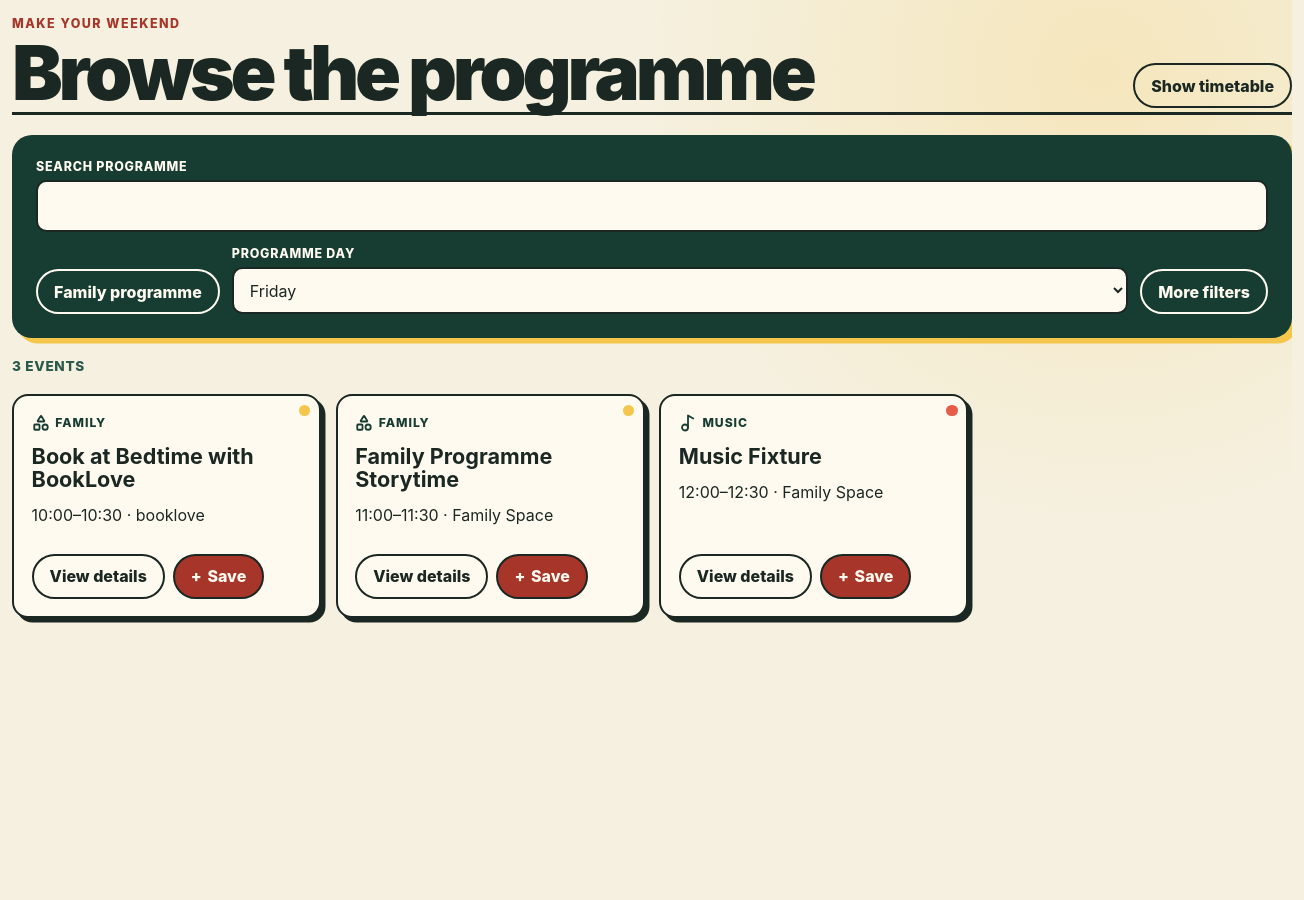
Test case: BrowseView › toggles the Family programme shortcut without replacing the other Browse filters
Expected: the element "Book at Bedtime with BookLove" is shown, [12,394,321,618]
Expected: the element "Family Programme Storytime" is shown, [336,394,645,618]
Click the button "Family programme": x=128, y=292 [36,269,220,314]
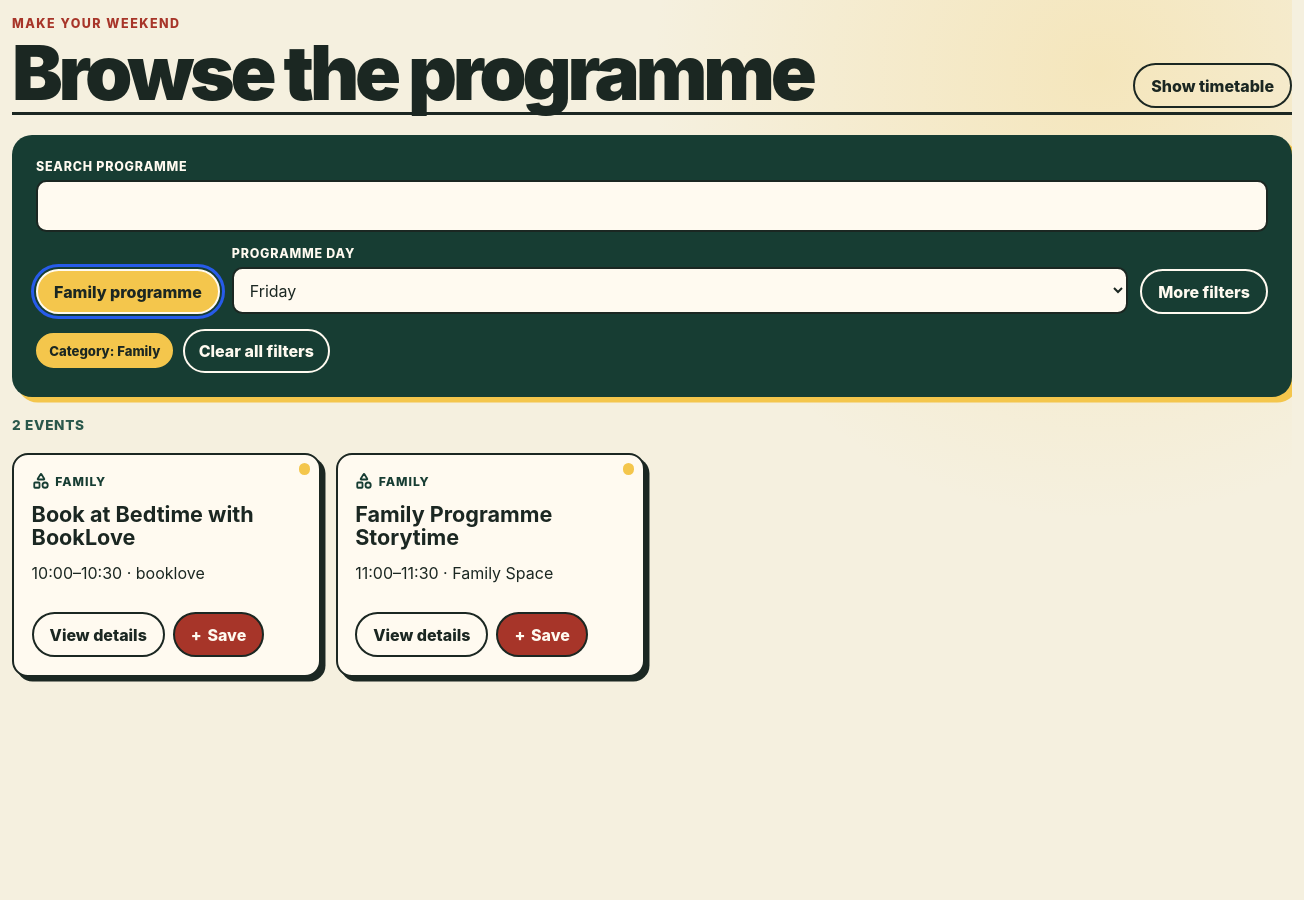
Expected: the element "Book at Bedtime with BookLove" is shown, [12,452,321,676]
Expected: the heading "Music Fixture" is gone
Select "Friday" in the dropdown labelled "Programme Day": x=680, y=291 [232,267,1128,314]
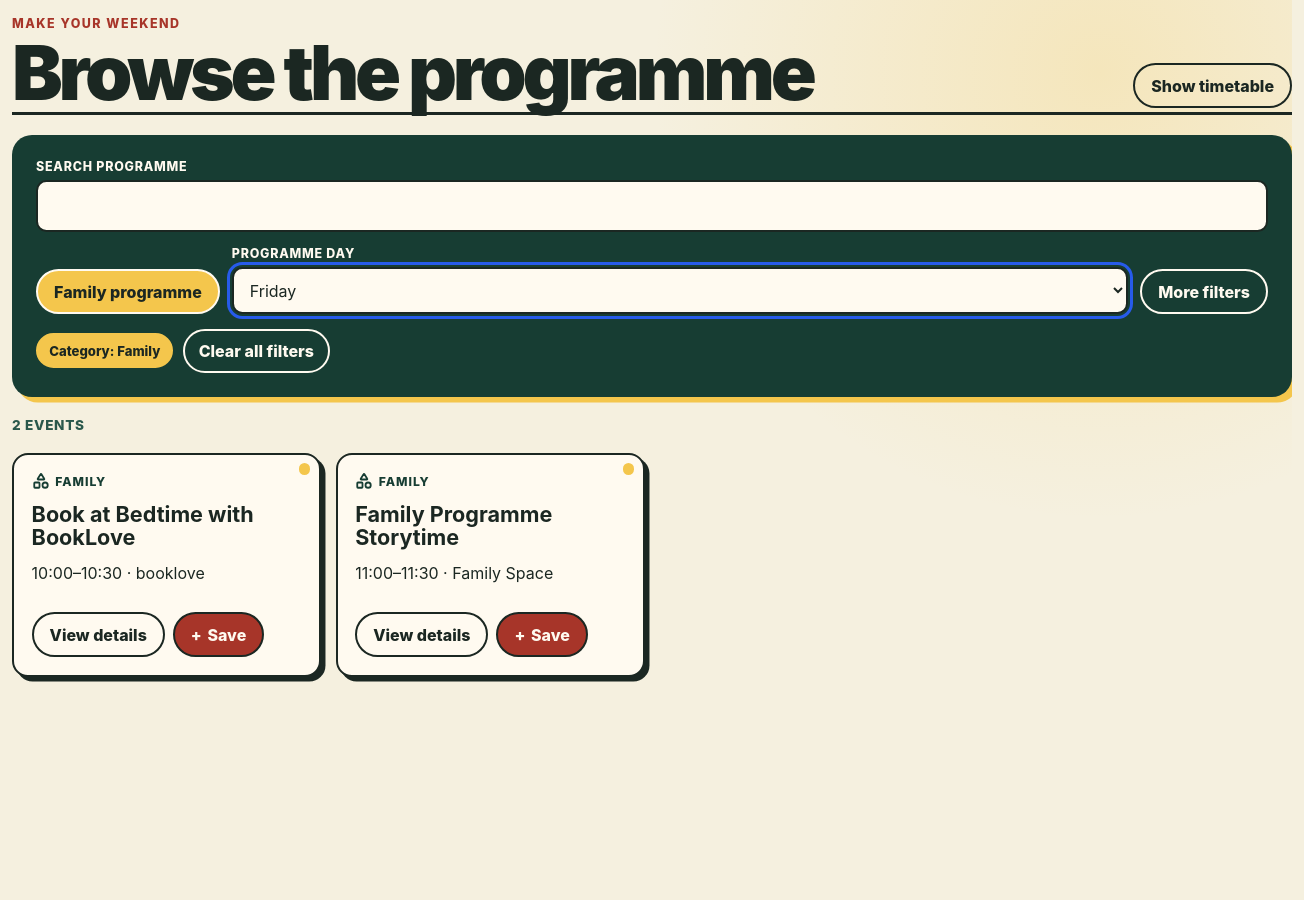
Click the button "More filters": x=1204, y=292 [1140,269,1268,314]
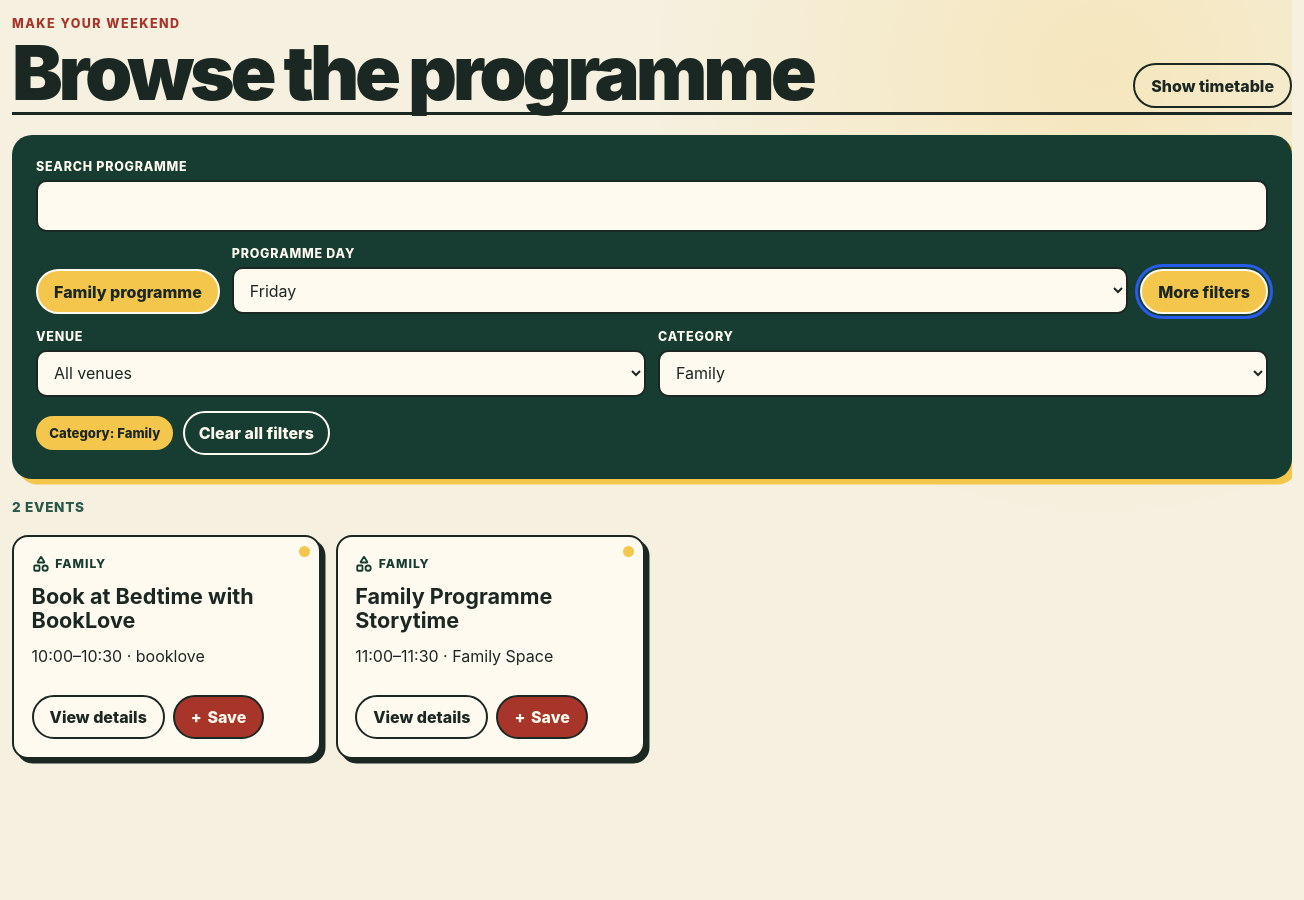
Select "Family Space" in the dropdown labelled "Venue": x=341, y=373 [36,350,646,397]
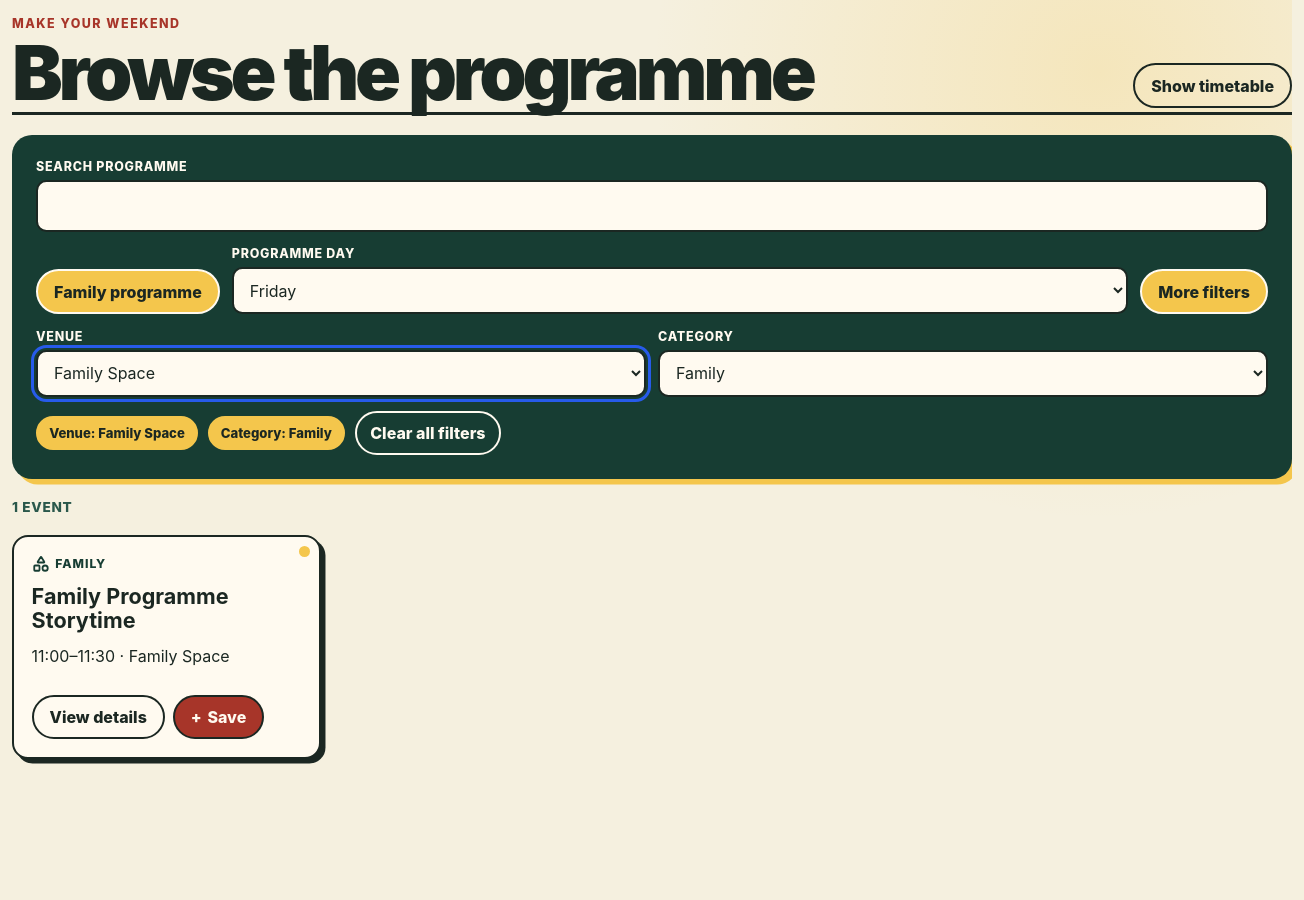
Expected: the element "Family Programme Storytime" is shown, [12,535,321,759]
Expected: the heading "Book at Bedtime with BookLove" is gone
In the search field labelled "Search programme": x=652, y=206 [36,180,1268,232], type "Family Programme Storytime"
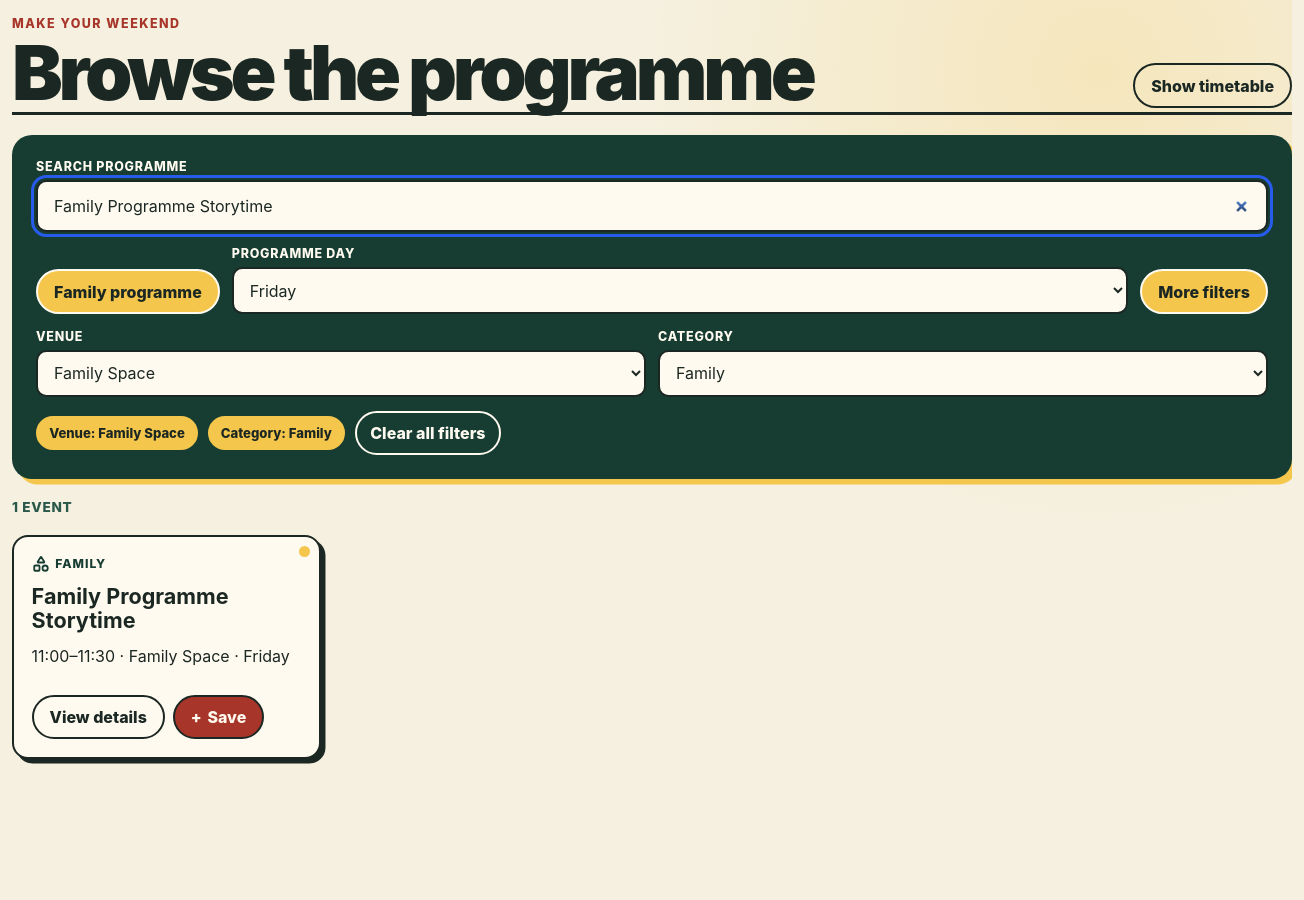
Expected: the element "Family Programme Storytime" is shown, [12,535,321,759]
Expected: the heading "Book at Bedtime with BookLove" is not shown
Click the button "Family programme": x=128, y=292 [36,269,220,314]
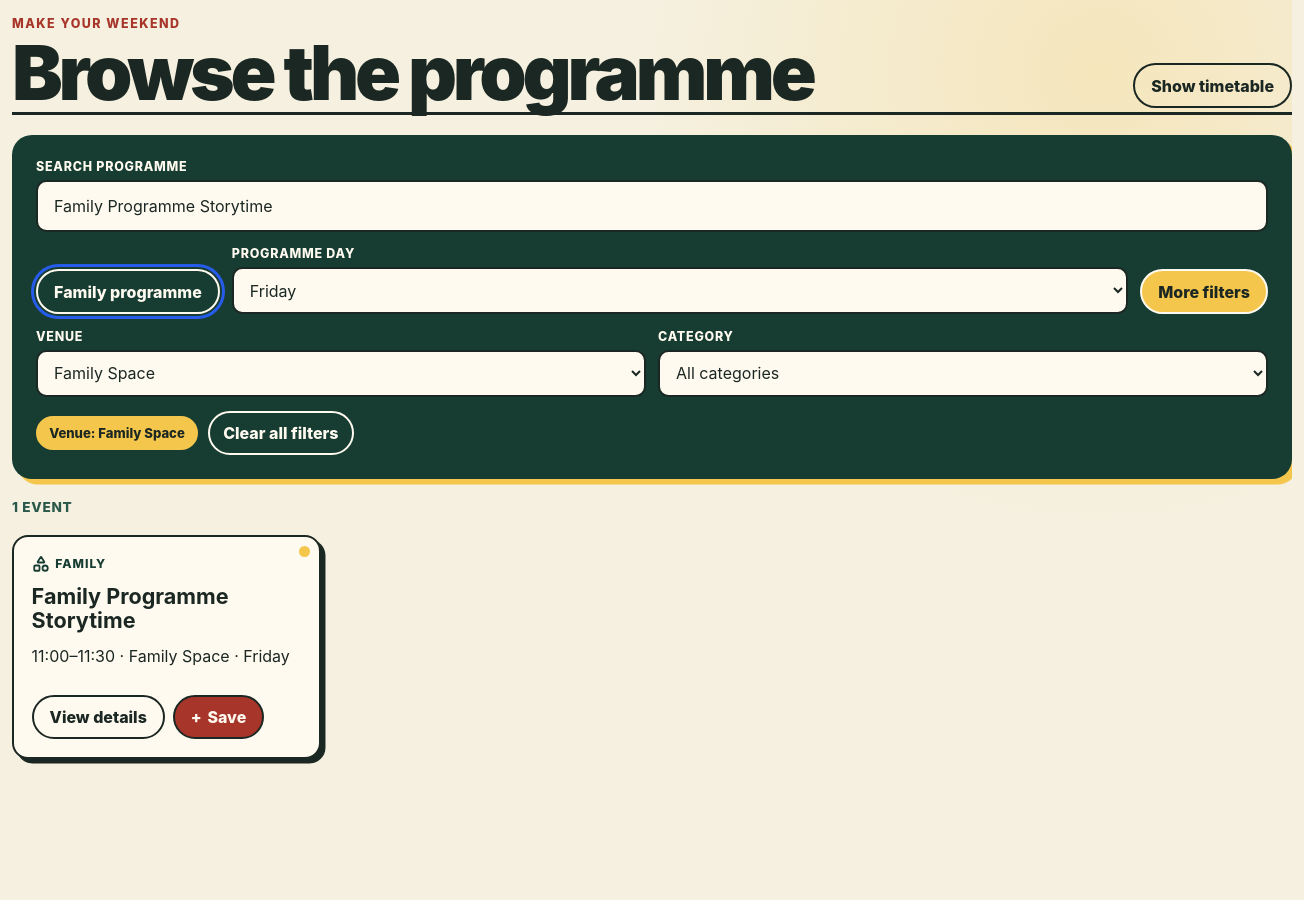
Expected: the dropdown labelled "Category" shows "All categories", [658,350,1268,397]
